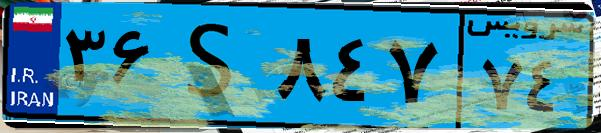3: (57, 26, 110, 100)
4: (330, 28, 385, 110), (525, 38, 570, 115)
6: (110, 28, 158, 98)
7: (385, 28, 445, 110), (475, 38, 525, 113)
8: (270, 28, 330, 110)
S: (158, 12, 270, 120)
